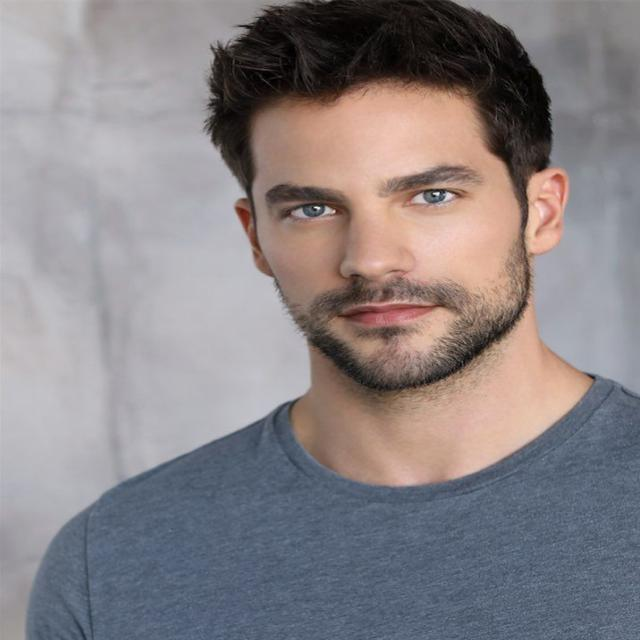earlobe: (528, 167, 570, 256), (233, 198, 274, 277)
